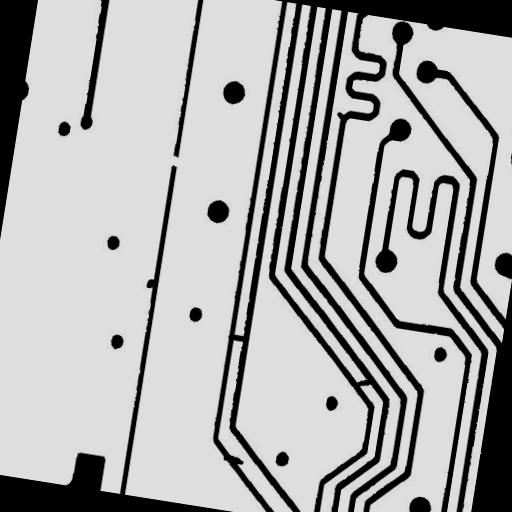mousebite: (505, 101, 512, 128)
open: (160, 146, 188, 175)
short: (342, 368, 382, 396), (218, 324, 254, 350)
spur: (214, 445, 252, 473), (137, 269, 163, 296), (327, 102, 354, 128)
